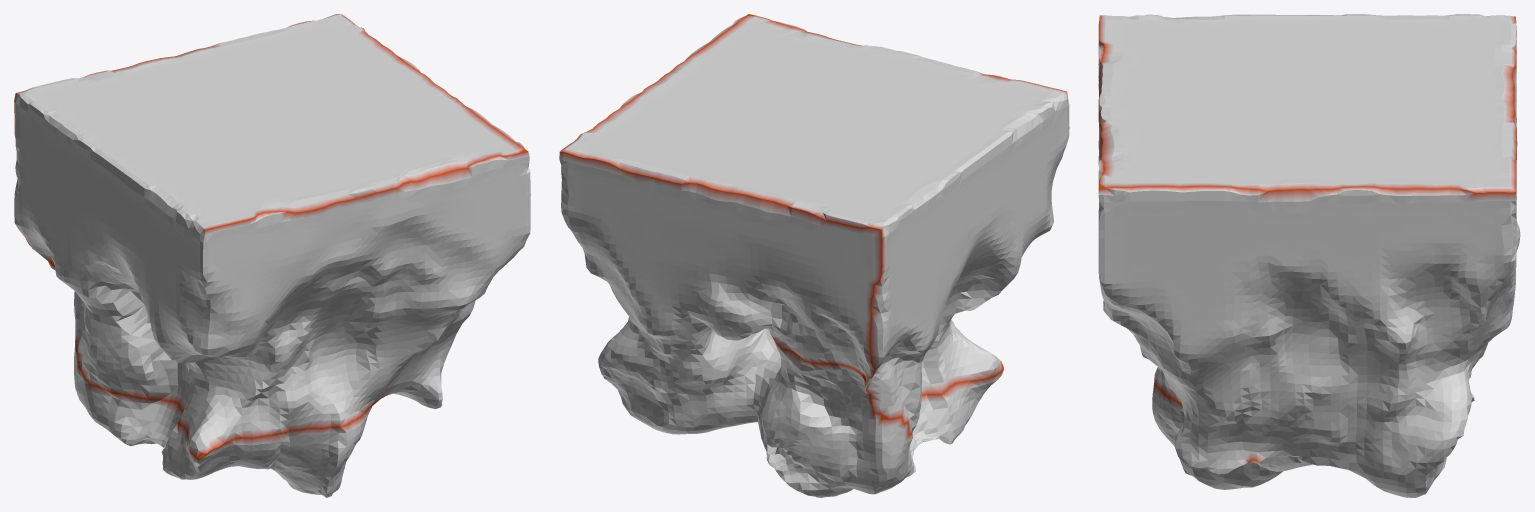
File: c_floating_nbars.fbx
The picture shows the model from 3 angles, left to right: view 1: azimuth 30°, elevation 25°; view 2: azimuth 150°, elevation 25°; view 3: azimuth 270°, elevation 25°; orthographic projection. The views are drawn at different scales.
Visible parts, largest first — view 1: concretefloating_SeamsColor; view 2: concretefloating_SeamsColor; view 3: concretefloating_SeamsColor.
Boxes of the visible parts, x1,y1,x2,y2 form: concretefloating_SeamsColor: [14, 14, 530, 497]; concretefloating_SeamsColor: [559, 14, 1069, 497]; concretefloating_SeamsColor: [1098, 14, 1520, 497].
Size of the model in its own units: 2.01 by 2.02 by 2.02.
